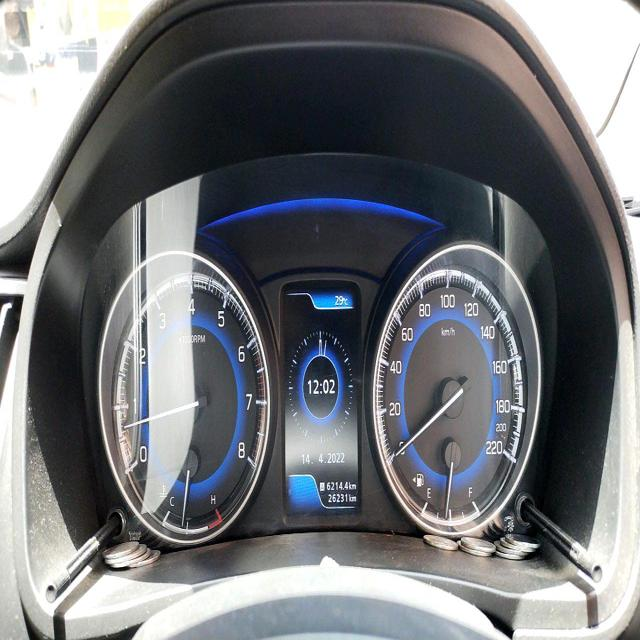odometer: (324, 491, 348, 506)
